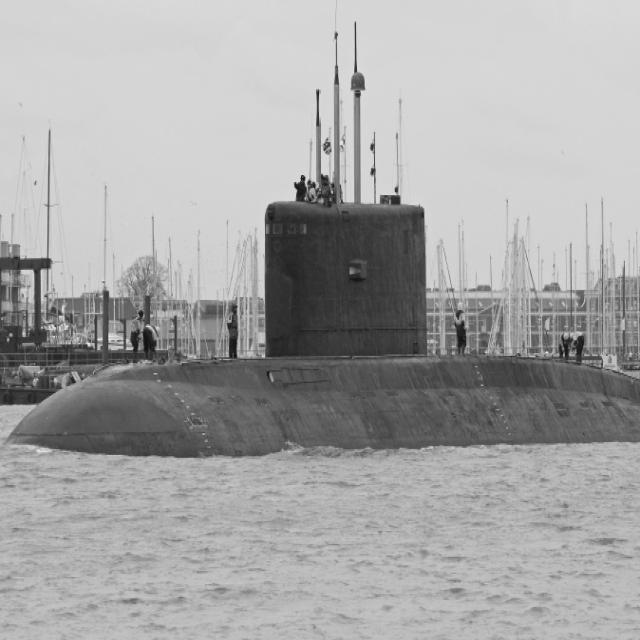submarine: (3, 198, 640, 462)
